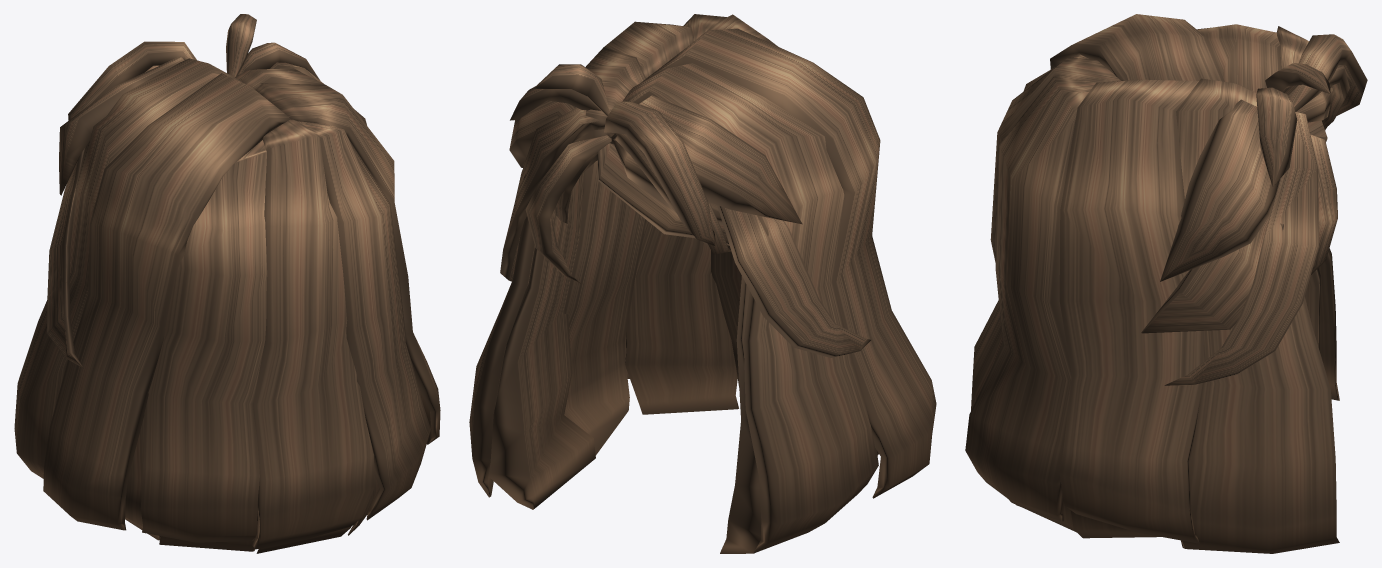
The picture shows the model from 3 angles, left to right: view 1: azimuth 30°, elevation 25°; view 2: azimuth 150°, elevation 25°; view 3: azimuth 270°, elevation 25°; orthographic projection. The views are drawn at different scales.
Visible parts, largest first — view 1: geometry_0; view 2: geometry_0; view 3: geometry_0.
Part boxes in pixels (x1,y1,x2,y2): geometry_0: (14,14,440,553); geometry_0: (469,14,936,553); geometry_0: (965,14,1367,553).
Size of the model in its own units: 2.07 by 2.16 by 1.73.
Materials: 1 (1 with a texture image).
